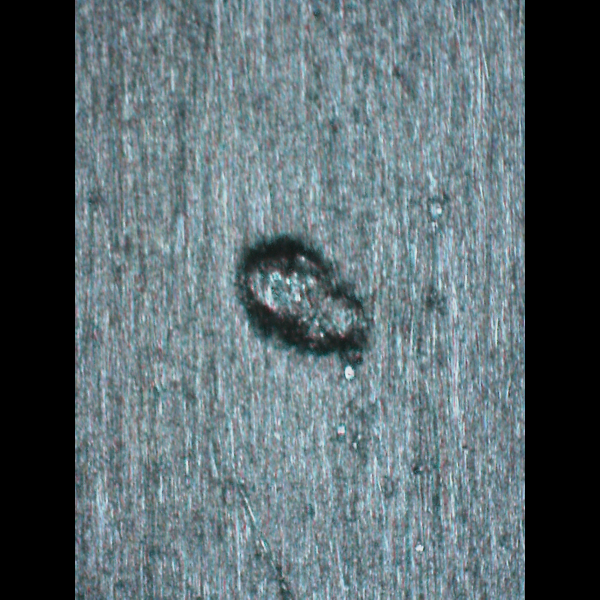d: (220, 237, 384, 379)
